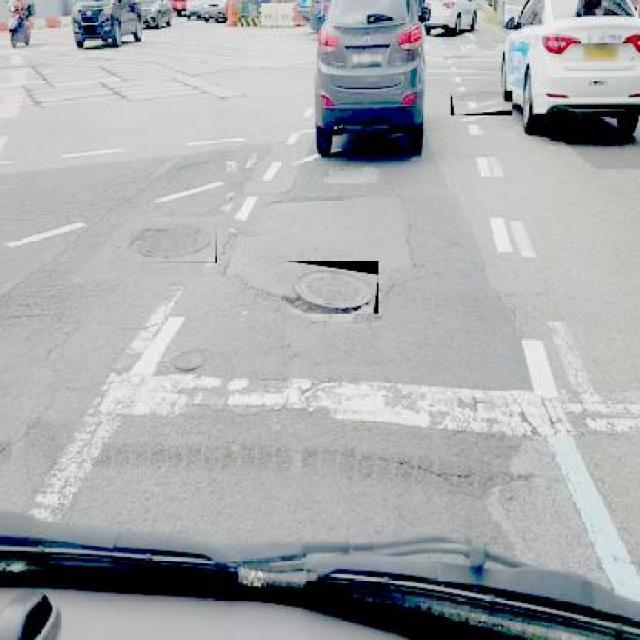Manhole: (282, 260, 378, 314), (131, 223, 217, 263), (164, 346, 216, 377), (450, 92, 512, 116)
